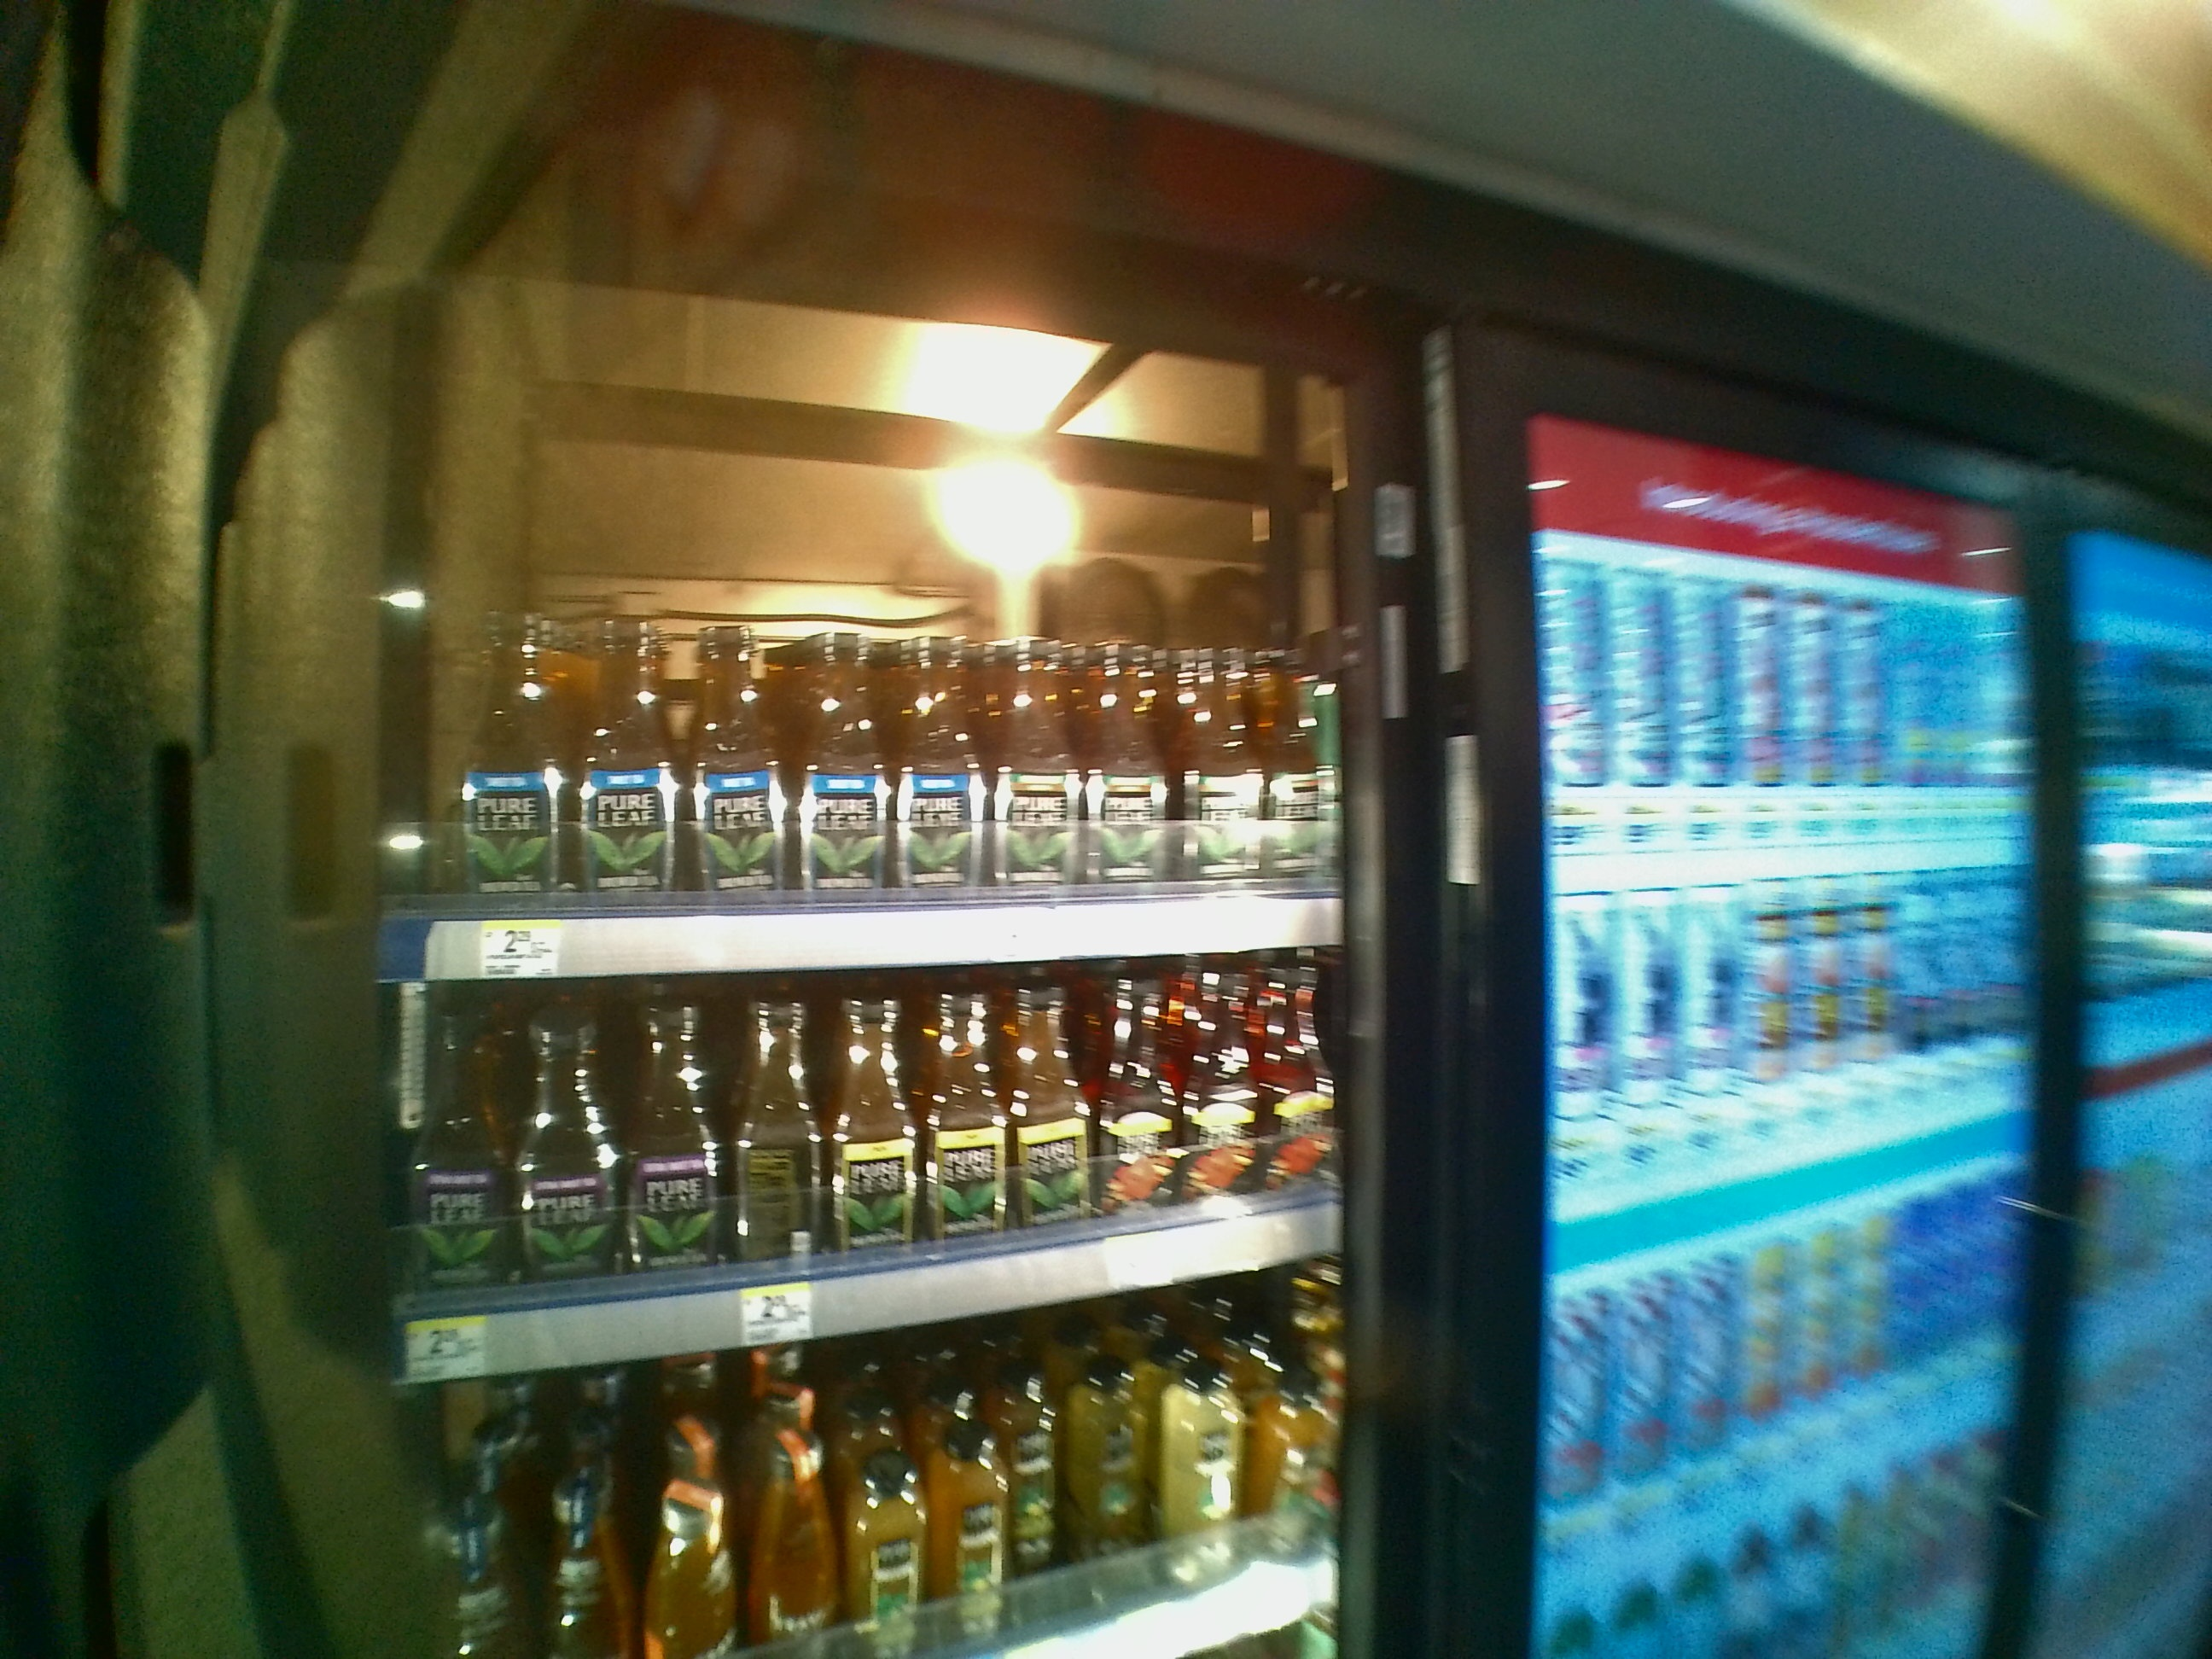shelf: (343, 380, 1339, 974), (355, 988, 1348, 1389)
